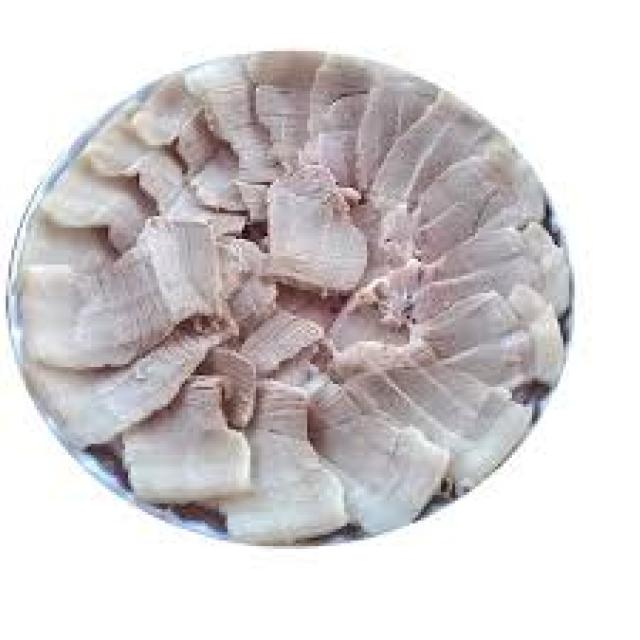thit luoc: (9, 51, 566, 543)
